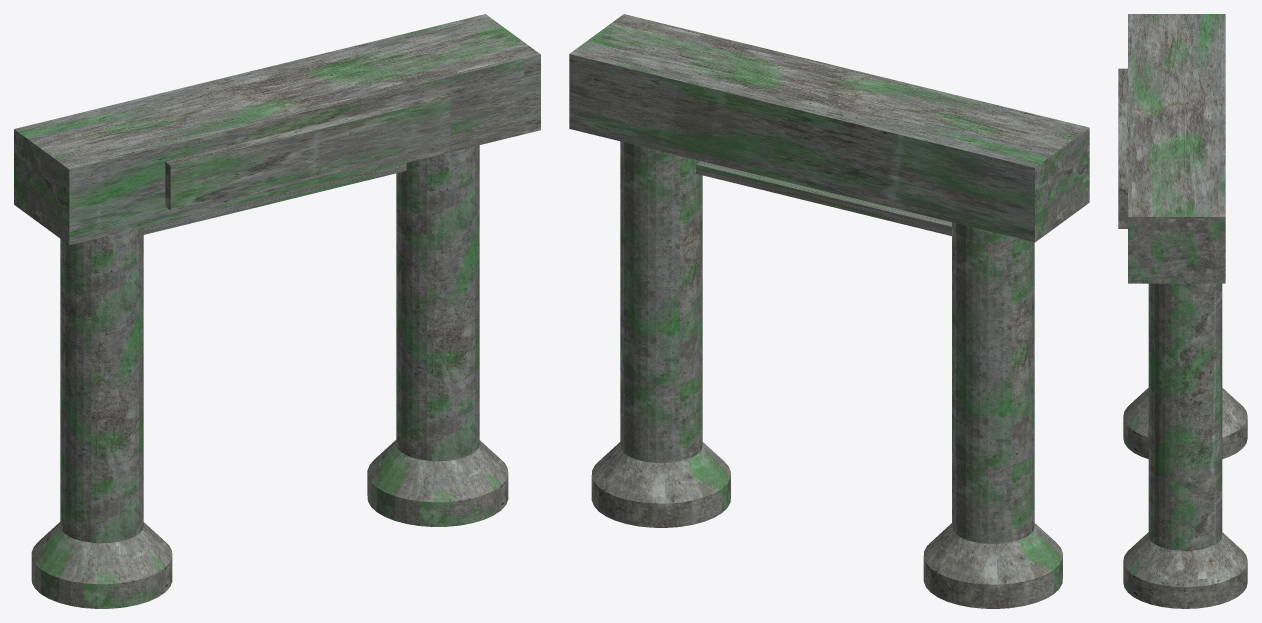
File: teleport 1.fbx
3 views of the same model, side by side, from view 1: azimuth 30°, elevation 25°; view 2: azimuth 150°, elevation 25°; view 3: azimuth 270°, elevation 25° (orthographic). The views are drawn at different scales.
Parts seen in each view (by area): view 1: Cube, Cylinder, Cylinder.001, Cube.001; view 2: Cube, Cylinder, Cylinder.001, Cube.001; view 3: Cube, Cylinder.001, Cylinder.
Boxes of the visible parts, x1=… form: Cube: x1=14, y1=14, x2=540, y2=245; Cylinder: x1=31, y1=227, x2=172, y2=608; Cylinder.001: x1=367, y1=145, x2=508, y2=526; Cube.001: x1=143, y1=163, x2=406, y2=234; Cube: x1=569, y1=14, x2=1089, y2=242; Cylinder: x1=923, y1=222, x2=1062, y2=608; Cylinder.001: x1=591, y1=141, x2=730, y2=527; Cube.001: x1=696, y1=161, x2=951, y2=235; Cube: x1=1118, y1=14, x2=1225, y2=283; Cylinder.001: x1=1123, y1=283, x2=1247, y2=608; Cylinder: x1=1123, y1=388, x2=1247, y2=458.
Bounding box in the file's own units: 1304 × 1187 × 352.
